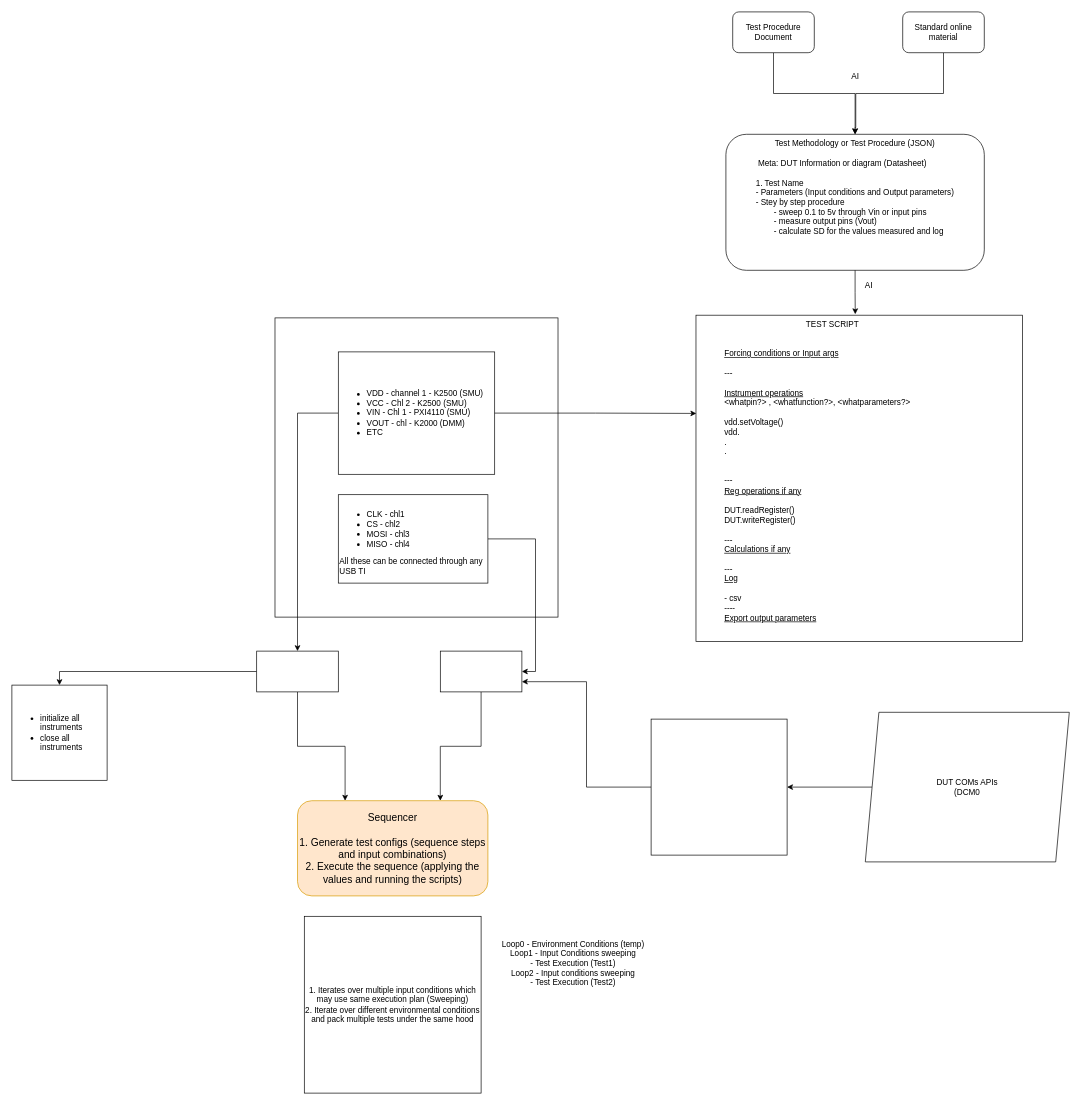
Image size: 1081x1105. Some labels were removed from this diagram. The shapes that lost their labels are listed below. From the top down, each one's box as (x1, y1, x2, y2) in pixels, then its label:
(274, 317, 558, 617): PINMAP CONFIG
(256, 650, 338, 692): Instrument Manager
(440, 650, 522, 692): DUT manager
(650, 718, 787, 855): Init DUT coms - > API close DUT coms
